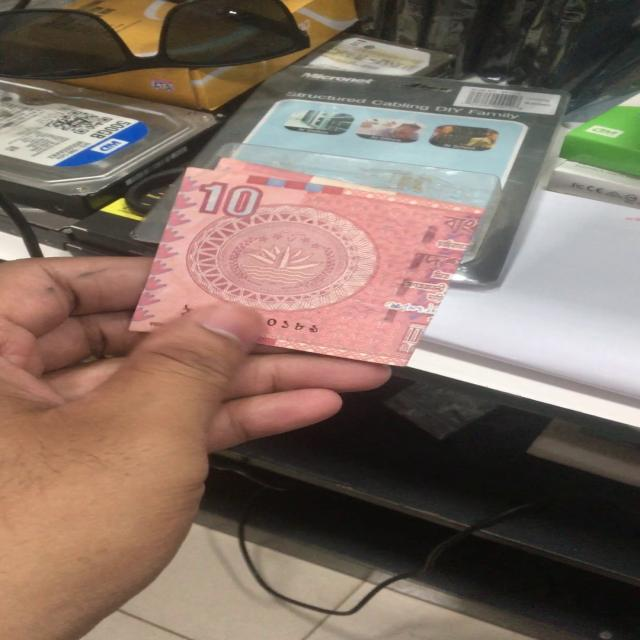Taka: (152, 166, 494, 361)
